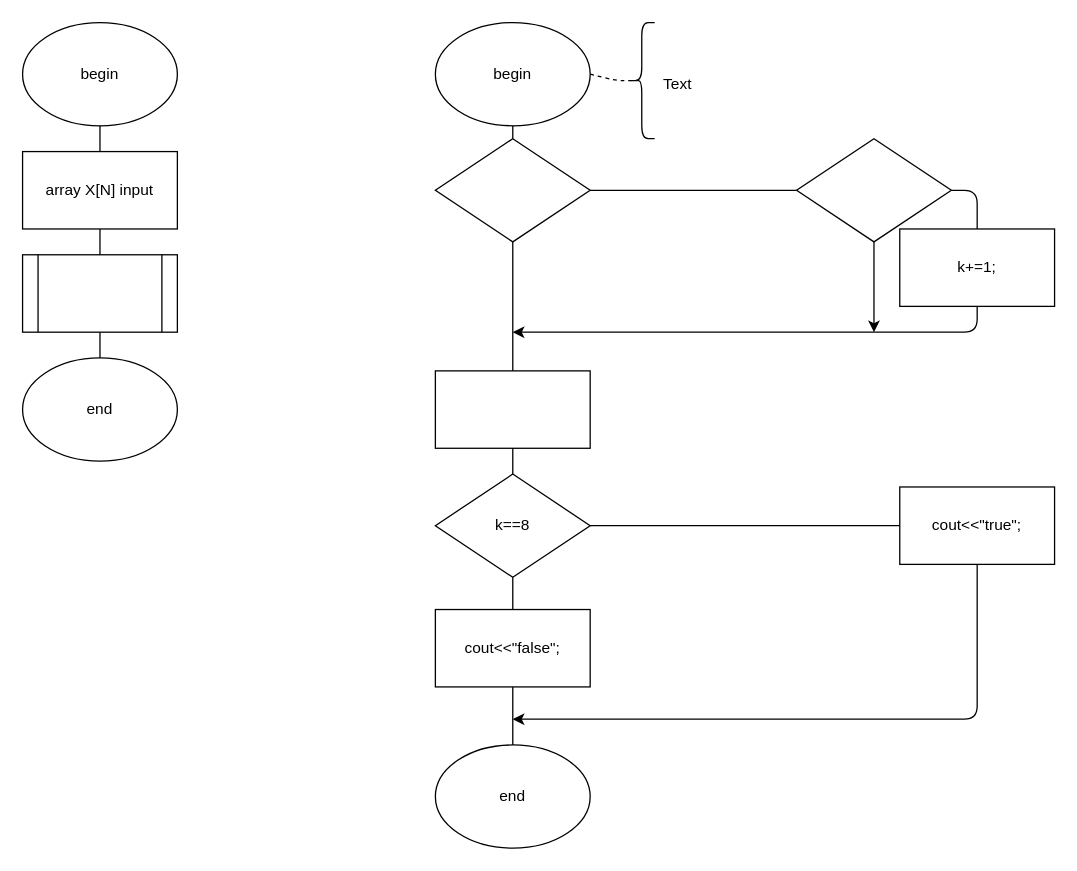
Image size: 1077x871. Some labels were removed from this diagram. Each missing label, with the centre of its shape:
"l==r" goes at point (512, 189).
"rec(0,N-1)" goes at point (99, 292).
"rec(l,(l+r)/2); rec((l+r)/2+1,r)" goes at point (512, 409).
"x>-10^1/3 && x<20^1/3" goes at point (873, 189).
